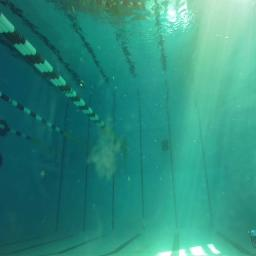Full: (161, 145, 170, 152)
front: (247, 228, 256, 250)
